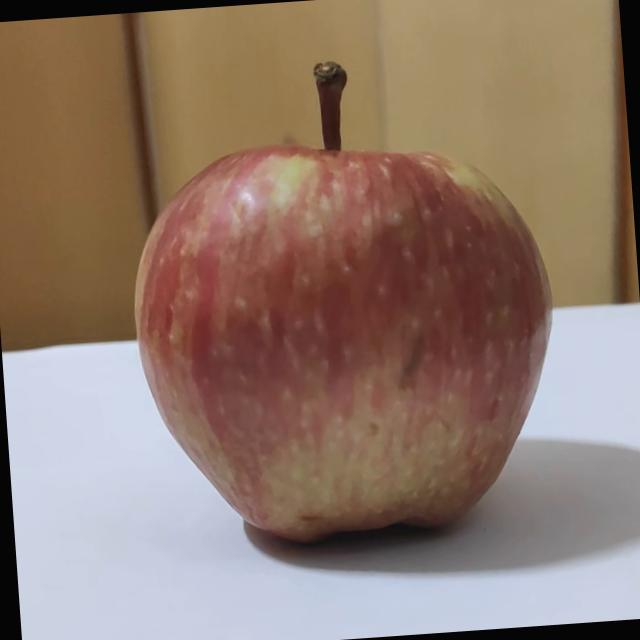apple: (115, 28, 567, 552)
